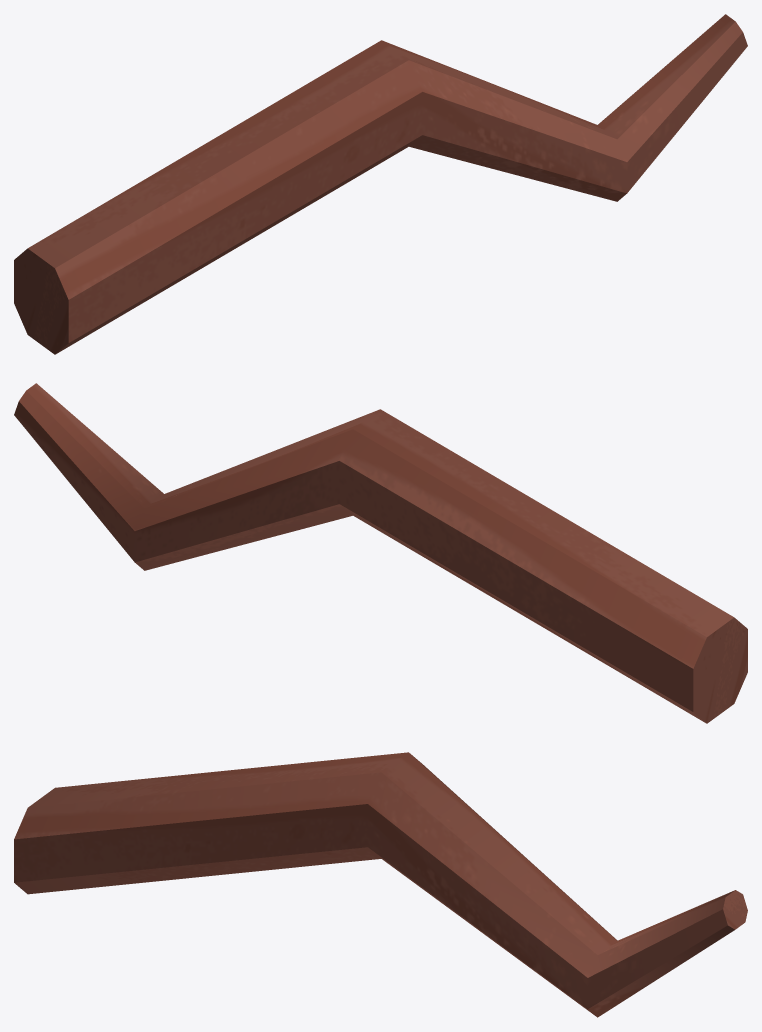
The model's file is SM_branch1.fbx.
The picture shows the model from 3 angles, top to bottom: view 1: azimuth 30°, elevation 25°; view 2: azimuth 150°, elevation 25°; view 3: azimuth 330°, elevation 25°; orthographic projection.
Visible parts, largest first — view 1: branch1; view 2: branch1; view 3: branch1.
Part boxes in pixels (<box>): branch1: <box>14,14,747,354</box>; branch1: <box>14,383,747,723</box>; branch1: <box>14,752,747,1017</box>.
Bounding box in the file's own units: 10.77 × 3.07 × 1.46.
